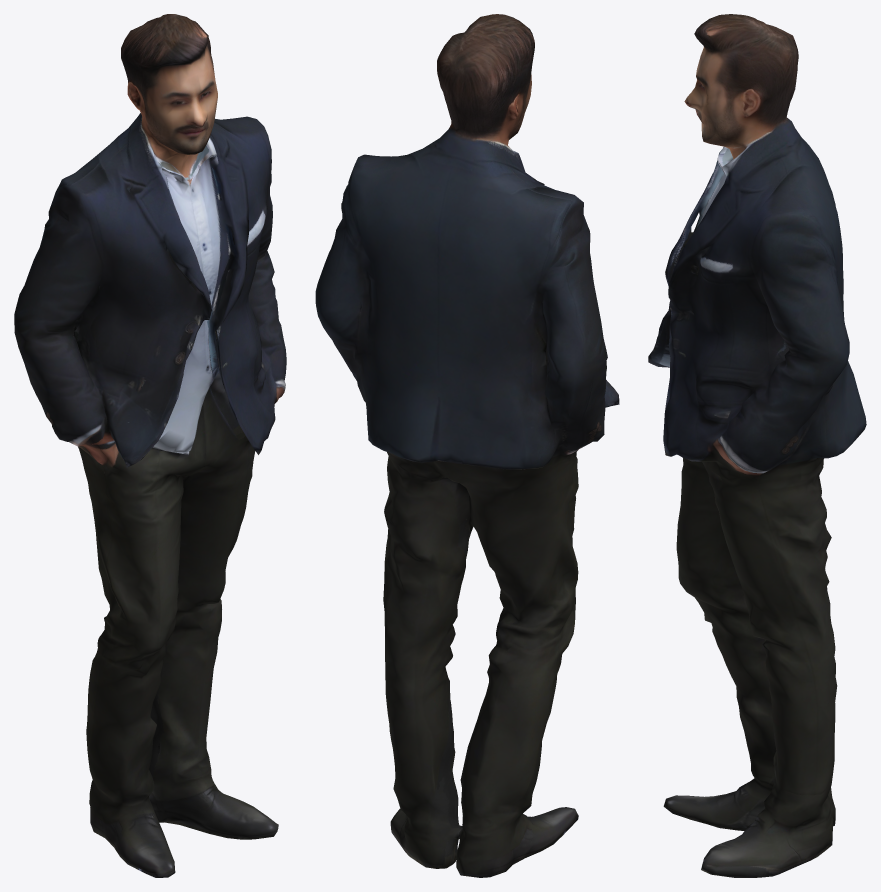
Rendered from A_handsome_man_standi_0509133807_texture.glb.
3 views of the same model, side by side, from view 1: azimuth 30°, elevation 25°; view 2: azimuth 150°, elevation 25°; view 3: azimuth 270°, elevation 25° (orthographic).
Bounding box in the file's own units: 0.6787 × 2 × 0.4828.
Materials: 1 (1 with a texture image).
